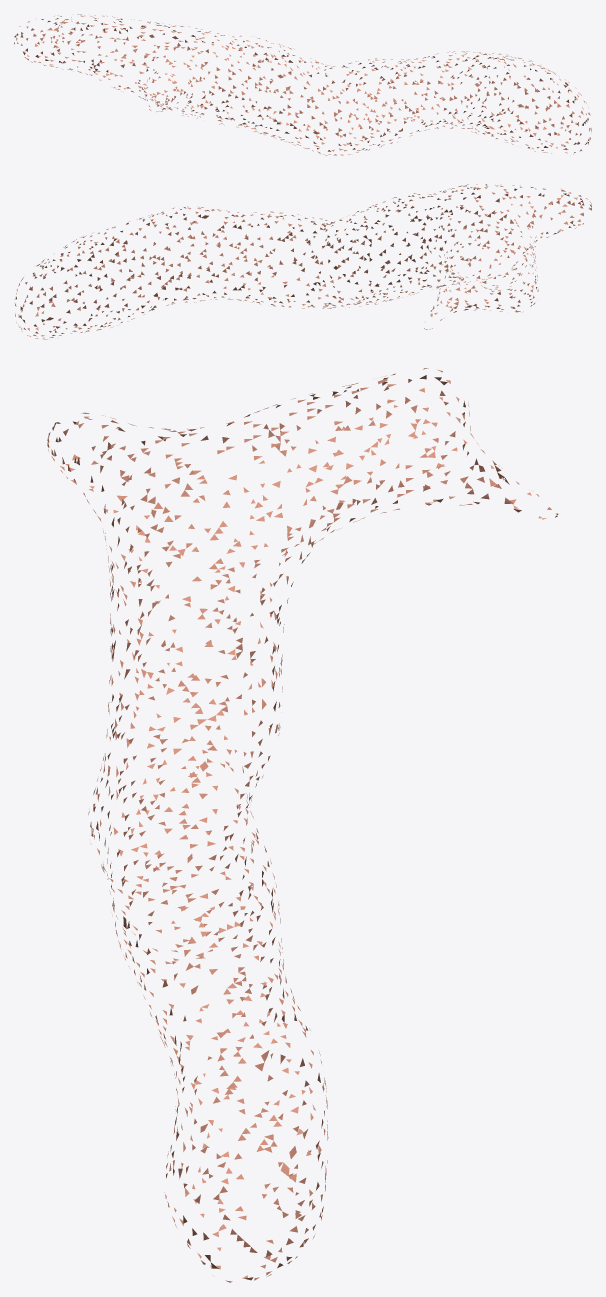
The model's file is morph_003.glb.
The picture shows the model from 3 angles, top to bottom: view 1: azimuth 30°, elevation 25°; view 2: azimuth 150°, elevation 25°; view 3: azimuth 270°, elevation 25°; orthographic projection. The views are drawn at different scales.
Bounding box in the file's own units: 100 × 40.7 × 42.67.
